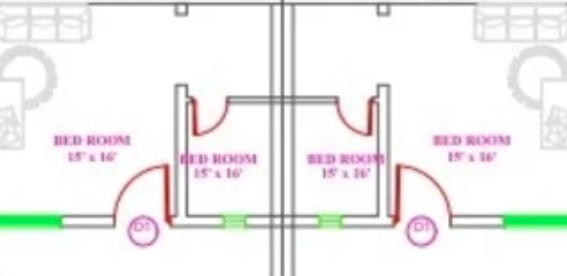door: (105, 154, 187, 242), (393, 156, 461, 252), (331, 82, 376, 148), (188, 79, 231, 144)
